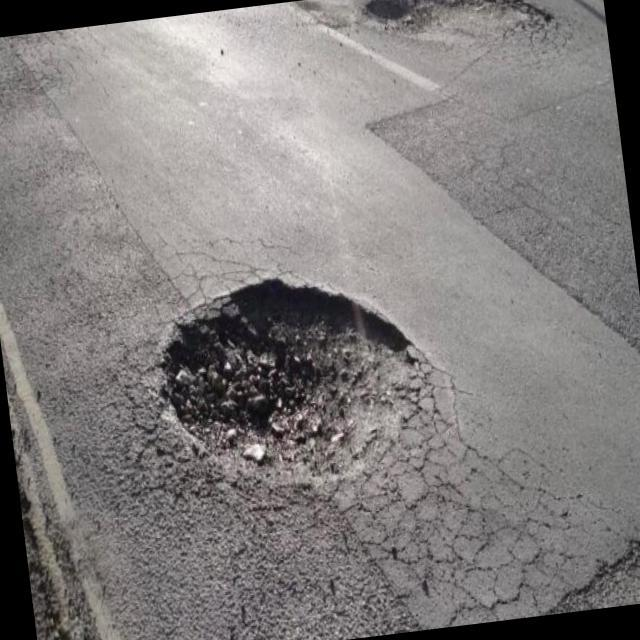Pothole: (164, 279, 429, 480)
